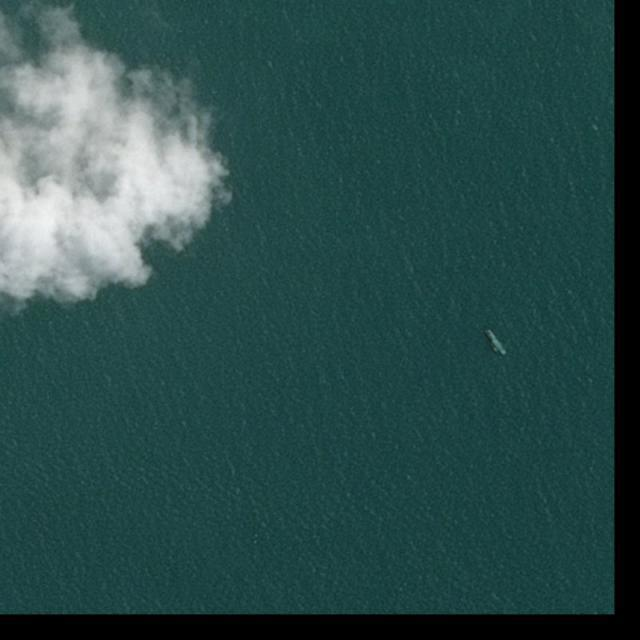ship: (484, 328, 509, 358), (491, 346, 499, 355)
